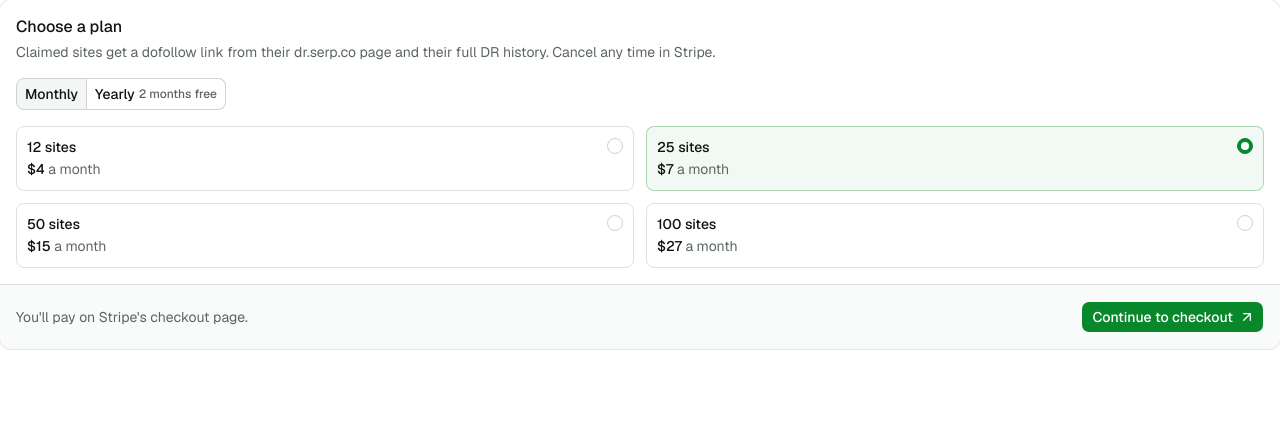
PlanChooser, no plan yet › says when dr.serp.co is unreachable
What coordinates should you click on to do the following:
click the button "Continue to checkout"
I would click on:
 (1173, 317)
Its box is x1=1081 y1=301 x2=1264 y2=333.
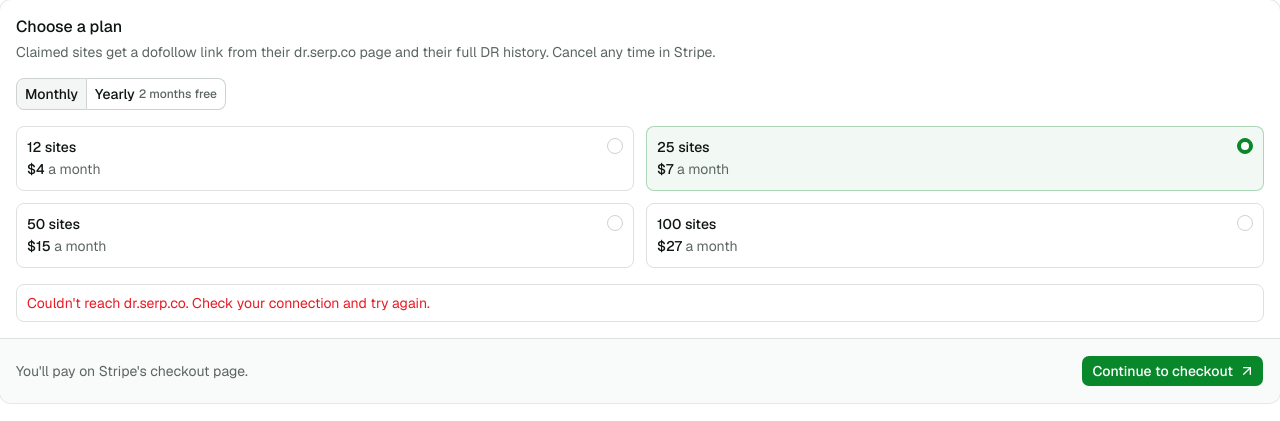
Check: the text "Couldn't reach dr.serp.co" is shown, box x1=27 y1=294 x2=430 y2=312
